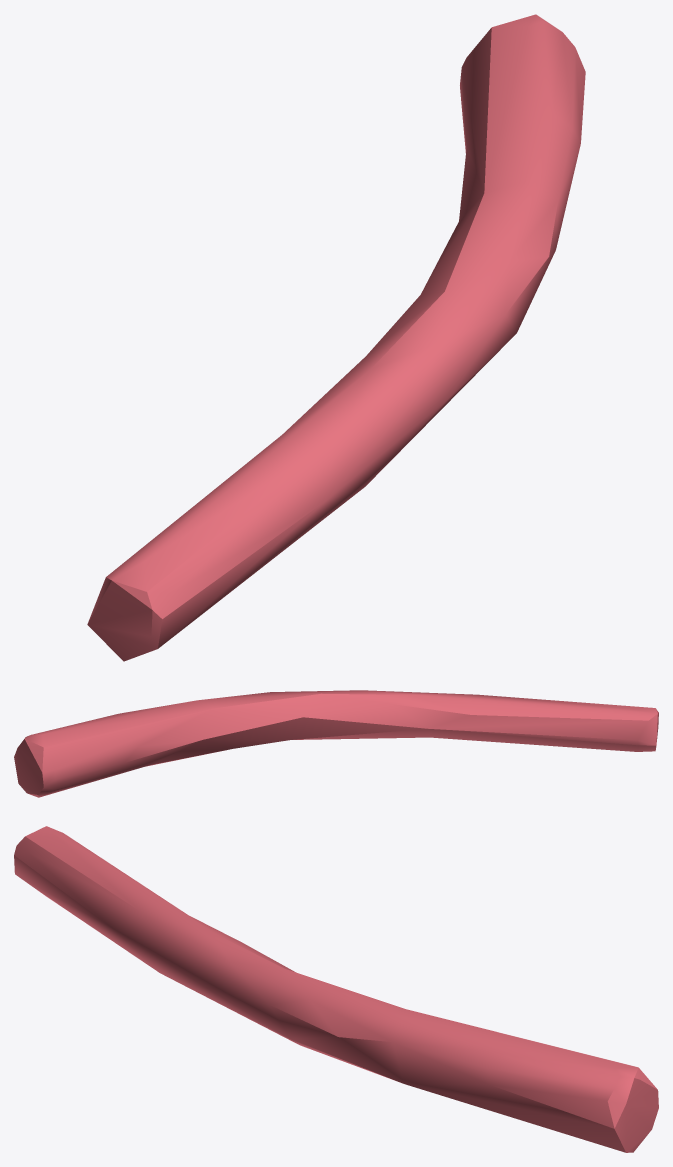
File: fma68673_fj2971.glb
3 views of the same model, one above another, from view 1: azimuth 30°, elevation 25°; view 2: azimuth 150°, elevation 25°; view 3: azimuth 270°, elevation 25° (orthographic). The views are drawn at different scales.
Parts seen in each view (by area): view 1: FMA68673_FJ2971; view 2: FMA68673_FJ2971; view 3: FMA68673_FJ2971.
Boxes of the visible parts, bbox=[...] form: FMA68673_FJ2971: bbox=[87, 14, 585, 661]; FMA68673_FJ2971: bbox=[14, 690, 658, 797]; FMA68673_FJ2971: bbox=[14, 826, 658, 1152].
Bounding box in the file's own units: 0.0201 × 0.00291 × 0.018.
